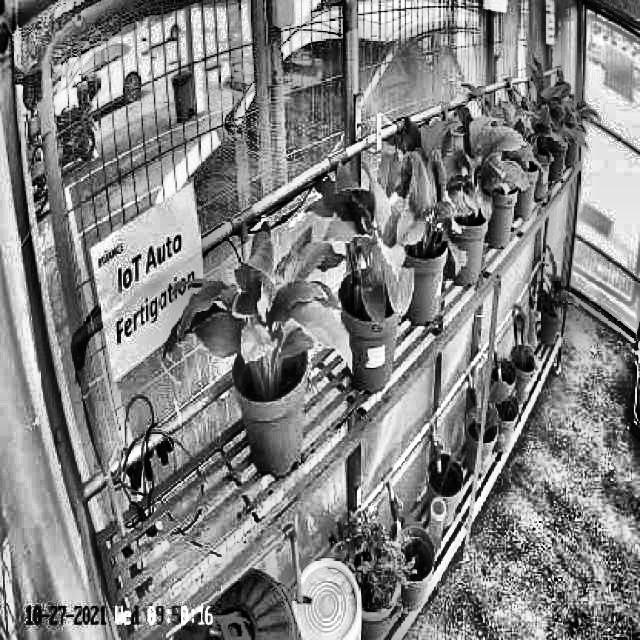plants: (162, 214, 352, 403), (310, 162, 415, 332), (374, 124, 469, 281), (429, 111, 534, 232)
